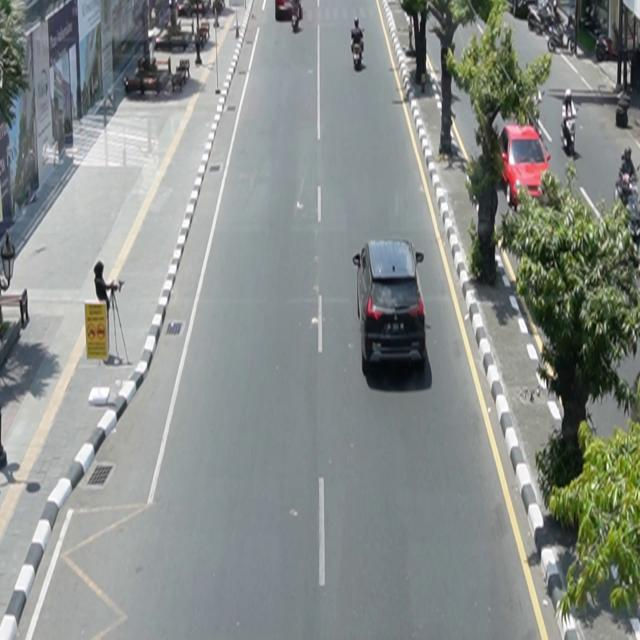car: (353, 238, 427, 373), (498, 124, 552, 212)
